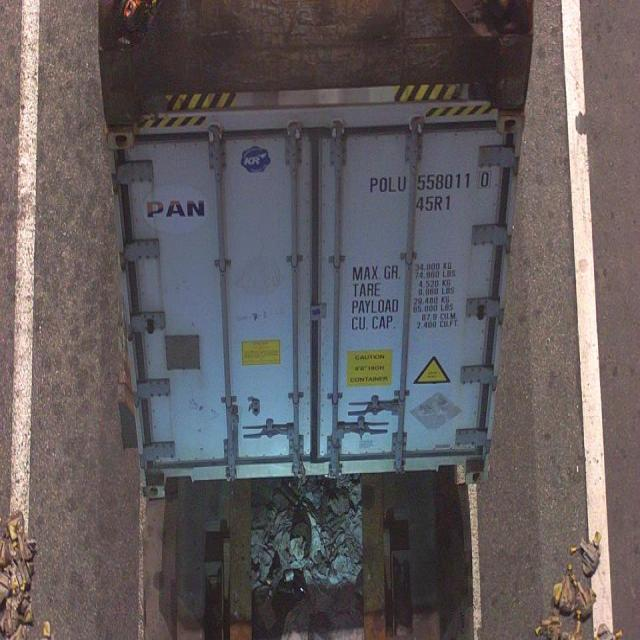ISO: (421, 197, 452, 214)
container_number: (370, 174, 492, 193)
